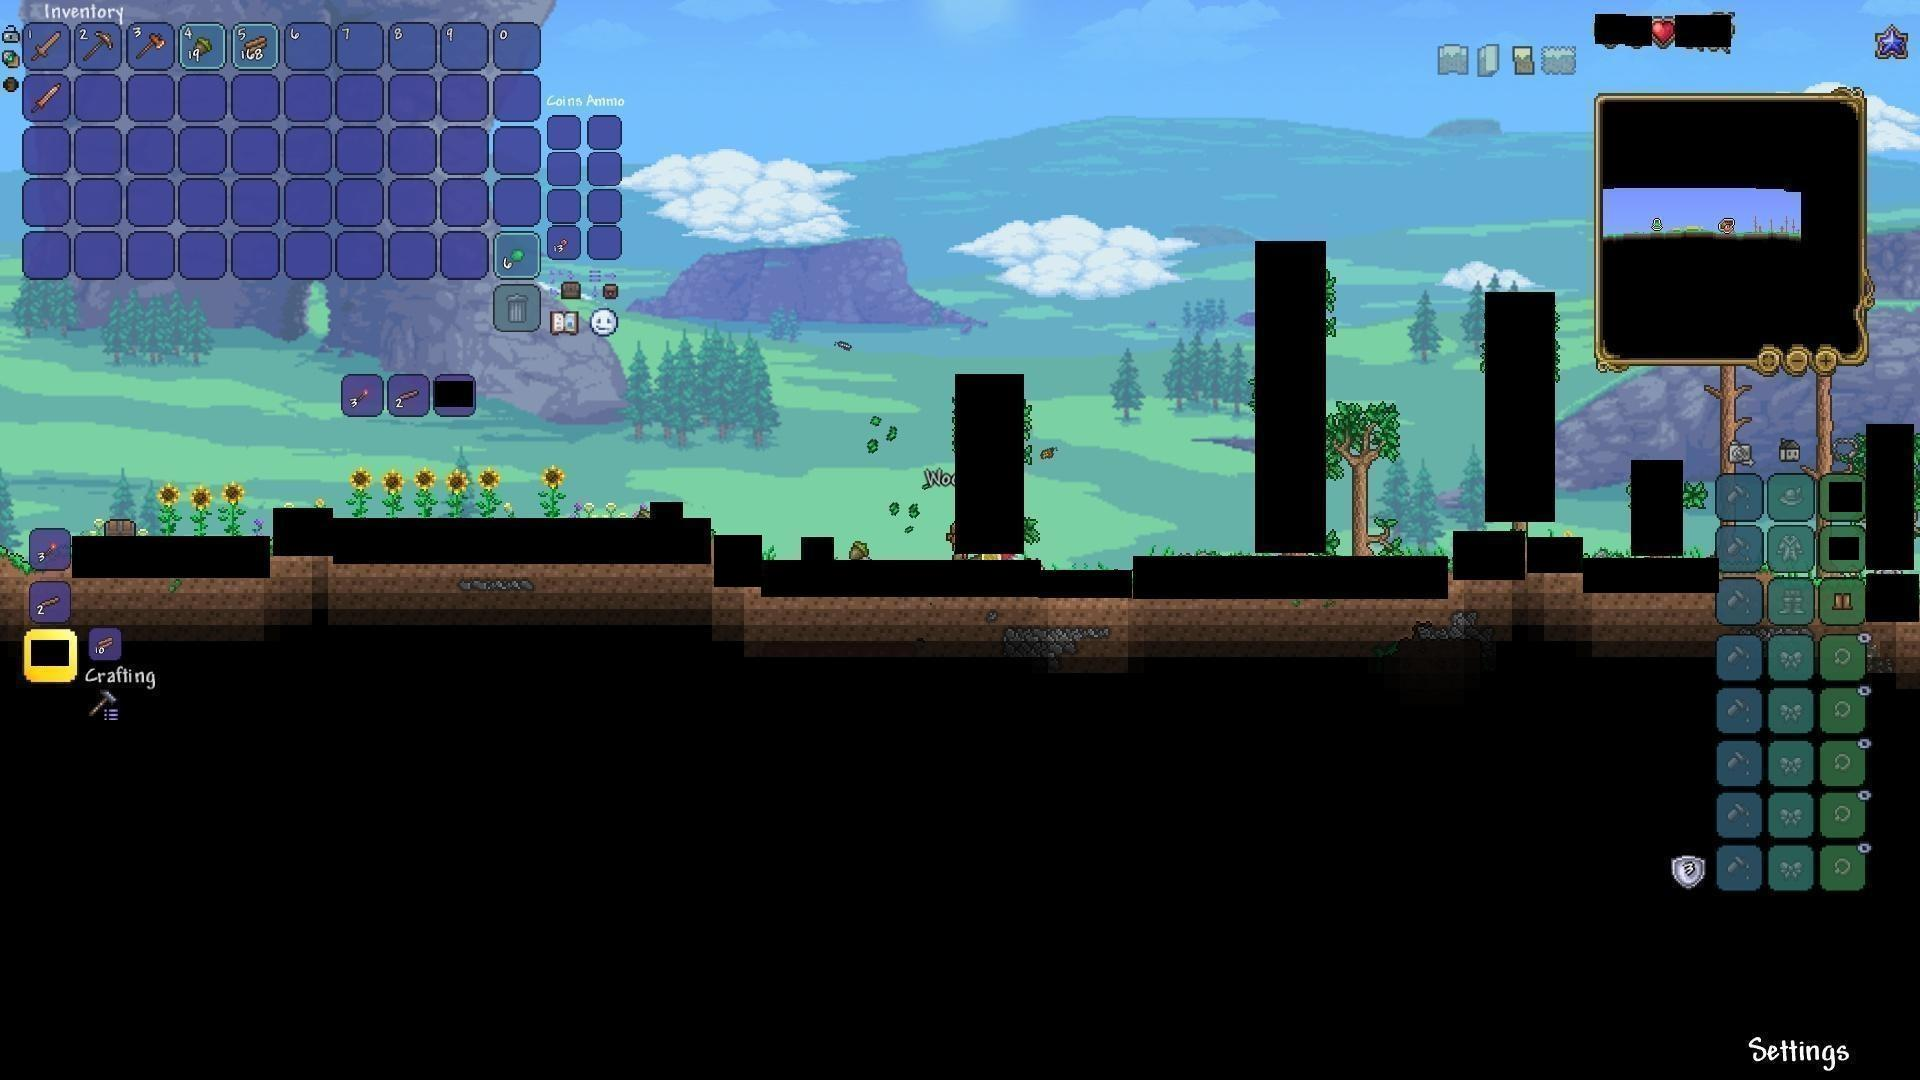dirt: (3, 537, 25, 584)
heart: (1648, 17, 1676, 46)
legs: (1832, 588, 1855, 616)
tree: (1323, 389, 1396, 553)
wood: (88, 629, 120, 659), (243, 36, 269, 59)
